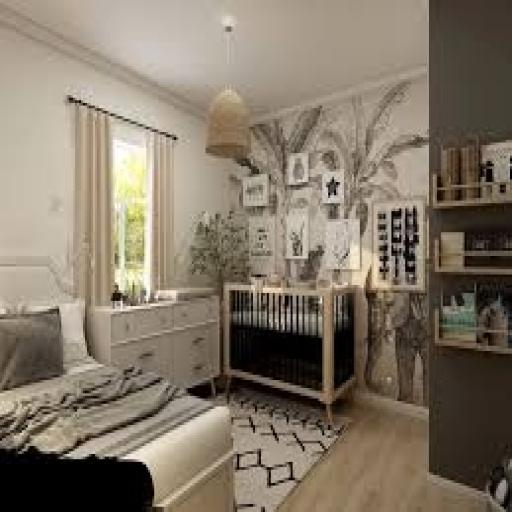crib: (224, 283, 355, 422)
